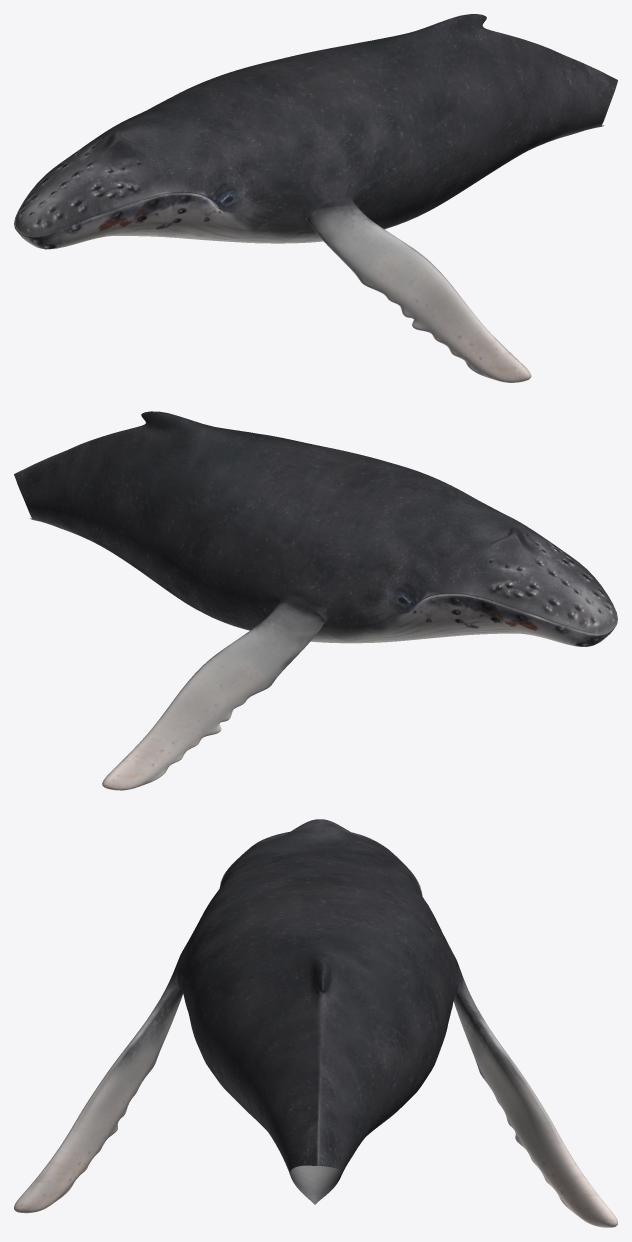
File: cuerpo.obj
The picture shows the model from 3 angles, top to bottom: view 1: azimuth 30°, elevation 25°; view 2: azimuth 150°, elevation 25°; view 3: azimuth 270°, elevation 25°; orthographic projection. The views are drawn at different scales.
Parts seen in each view (by area): view 1: polySurface4 _Whale_v2; view 2: polySurface4 _Whale_v2; view 3: polySurface4 _Whale_v2.
Part boxes in pixels (box(x1,y1,x2,y2)): polySurface4 _Whale_v2: box(14, 14, 617, 382); polySurface4 _Whale_v2: box(14, 411, 617, 790); polySurface4 _Whale_v2: box(14, 819, 617, 1227).
Bounding box in the file's own units: 8.12 × 3.47 × 6.28.
1 material, 1 textured.
